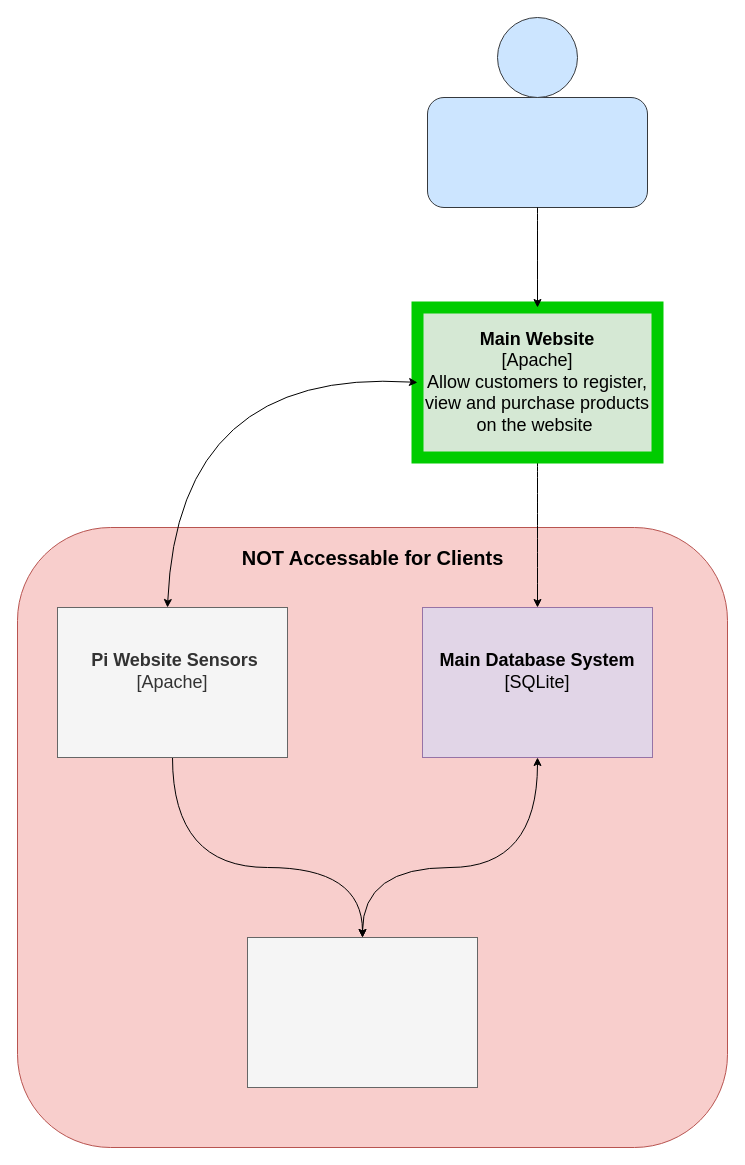
The diagram is 745 pixels wide and 1165 high, and some of its shapes have lost their labels. Each missing label, with the box of its shape:
Consumer User Account A customer of the website, with personal email accounts: (426, 96, 648, 208)
TKinter Application [Python]: (246, 936, 478, 1088)
